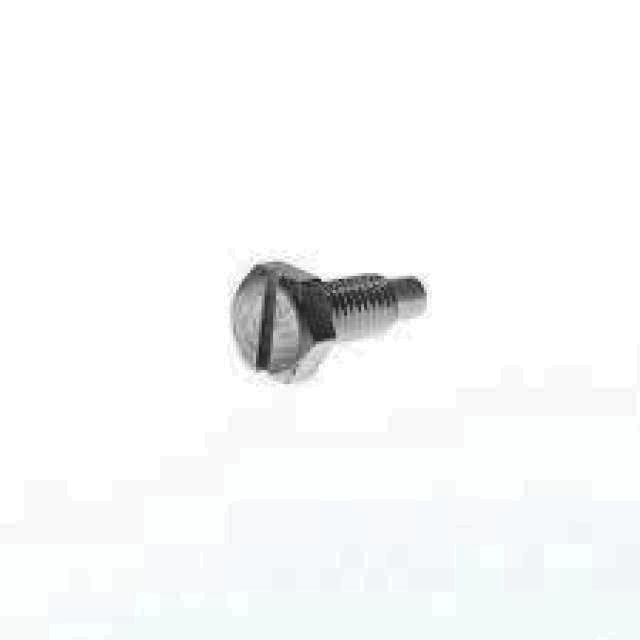duz: (227, 258, 337, 383)
